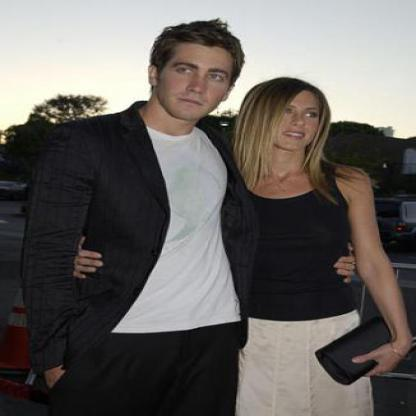face: (159, 27, 237, 123), (260, 80, 330, 153)
